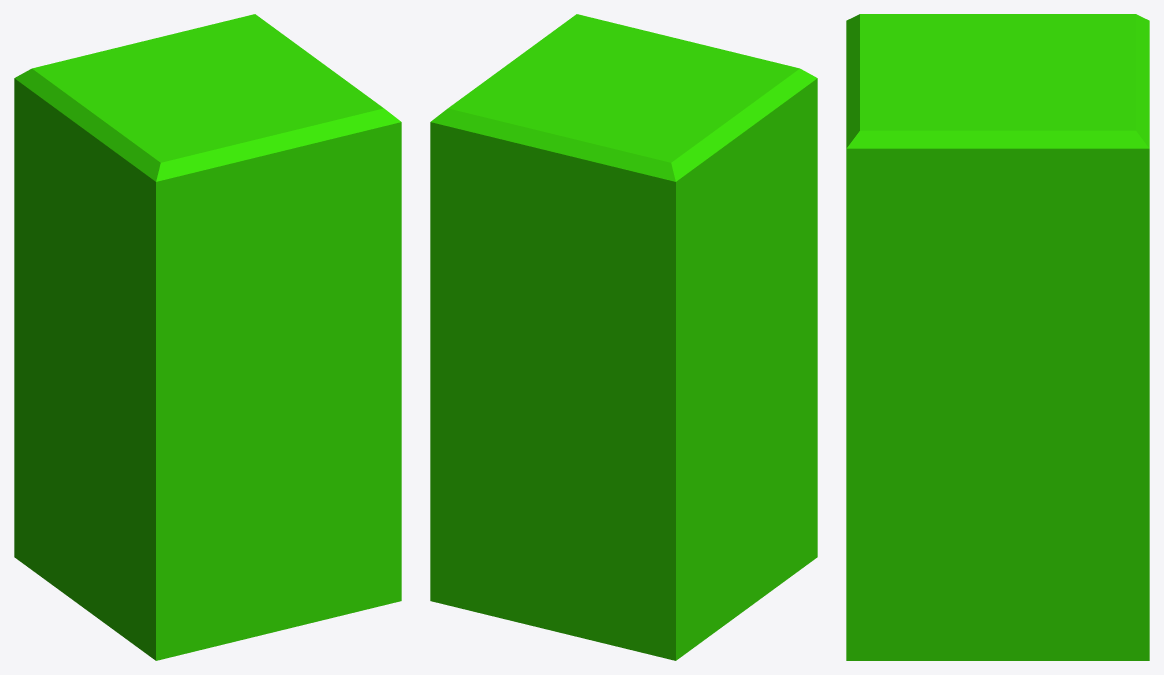
File: basic_1x2.fbx
3 renders of one model, left to right at view 1: azimuth 30°, elevation 25°; view 2: azimuth 150°, elevation 25°; view 3: azimuth 270°, elevation 25°, orthographic. The views are drawn at different scales.
Visible parts, largest first — view 1: basic_1x2; view 2: basic_1x2; view 3: basic_1x2.
Part boxes in pixels (x1,y1,x2,y2): basic_1x2: [14, 14, 401, 660]; basic_1x2: [430, 14, 817, 660]; basic_1x2: [846, 14, 1149, 660].
Size of the model in its own units: 110 by 210 by 110.
